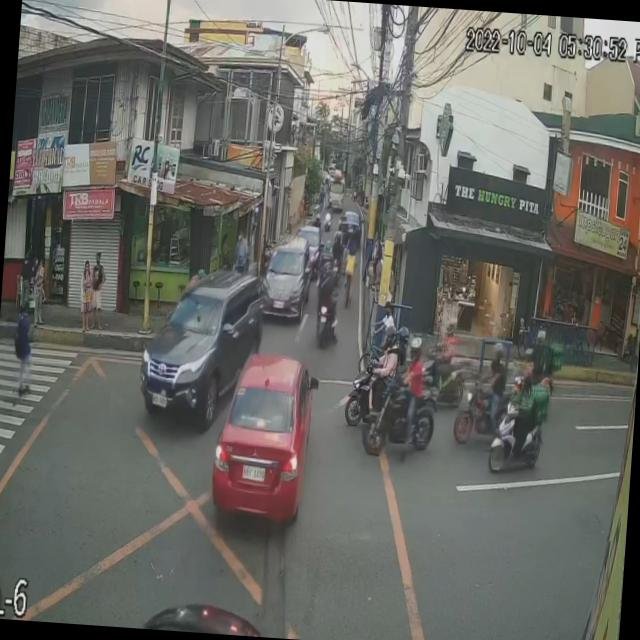full: (409, 333, 423, 362), (383, 325, 399, 348), (444, 314, 458, 338)
half: (492, 337, 506, 363), (396, 326, 411, 348)
